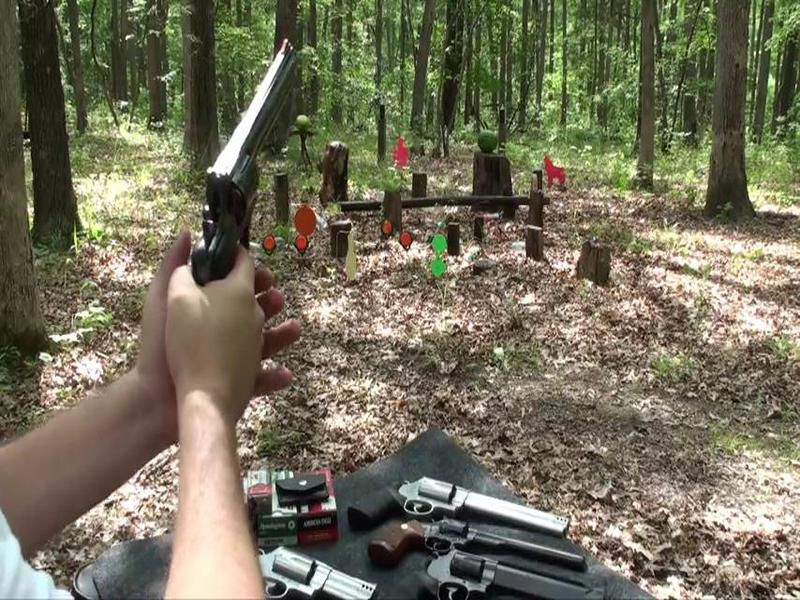Revolver: (169, 36, 333, 268)
